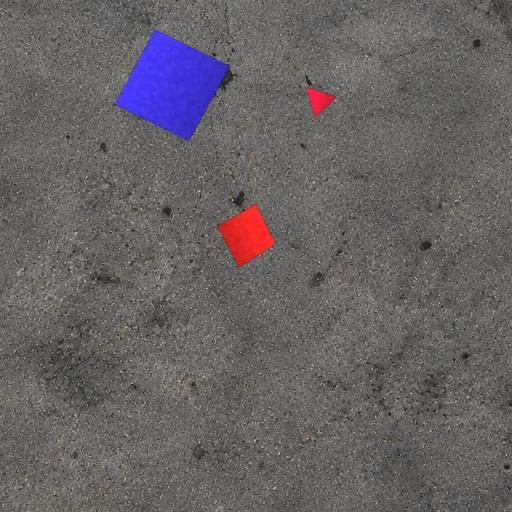BLUE_SQUARE: (114, 28, 232, 142)
RED_SQUARE: (217, 203, 277, 268)
